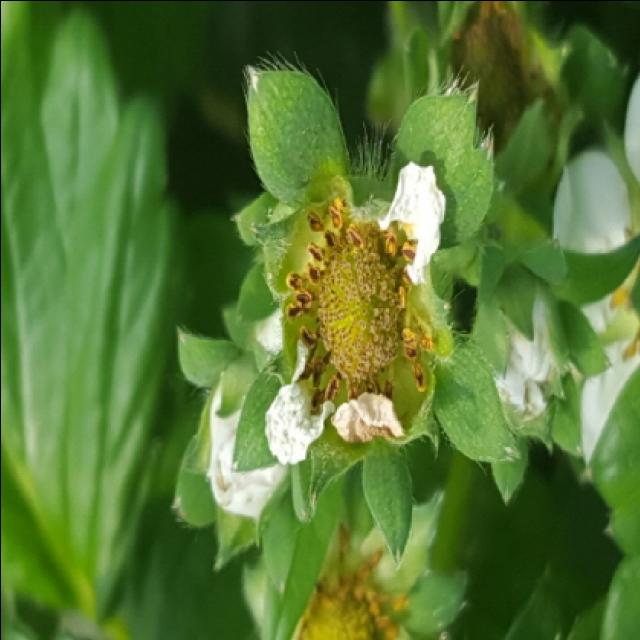Blossom Blight: (282, 192, 440, 417)
